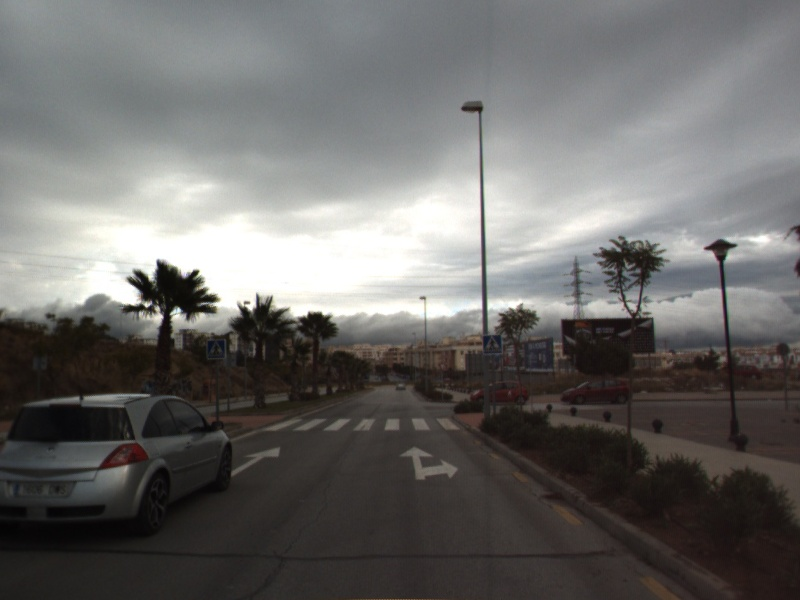STRAIGHT: (230, 445, 282, 478)
STRAIGHT_RIGHT: (397, 444, 460, 481)
